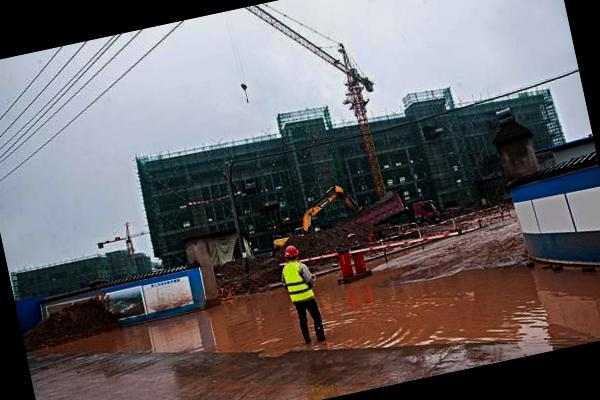helmet: (279, 242, 302, 262)
person: (274, 235, 334, 352)
